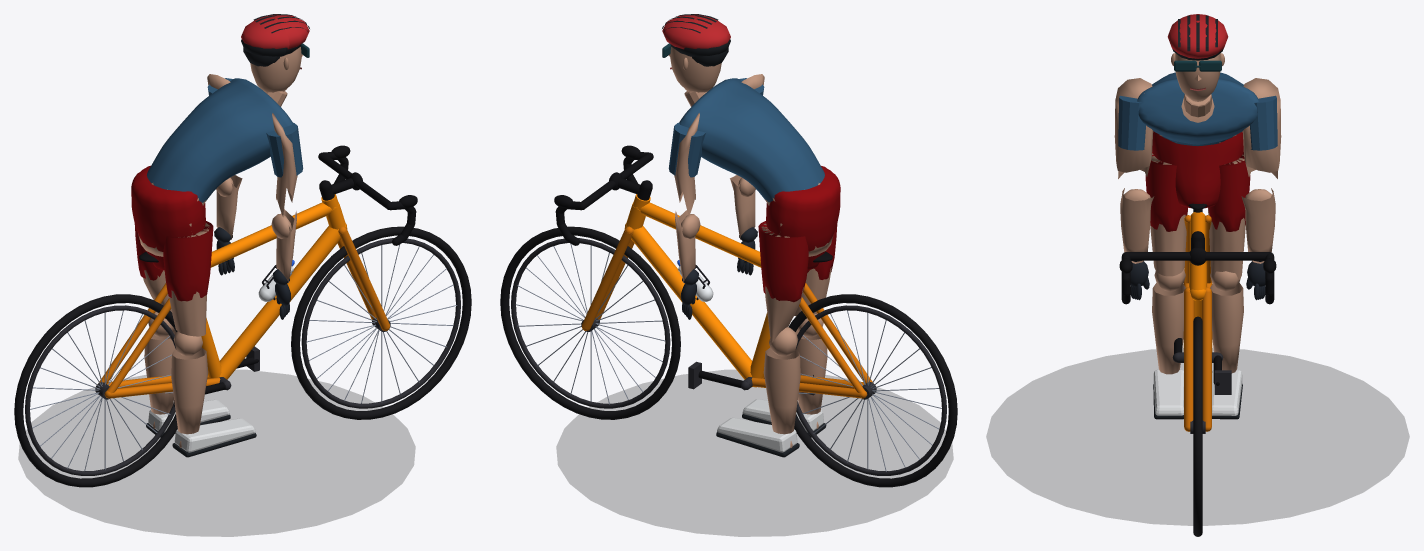
The model's file is rider-lowpoly.glb.
3 views of the same model, side by side, from view 1: azimuth 30°, elevation 25°; view 2: azimuth 150°, elevation 25°; view 3: azimuth 270°, elevation 25° (orthographic). The views are drawn at different scales.
Parts seen in each view (by area): view 1: groundShadow, RiderBike, torso, leg_l, leg_l_shin, cockpit, arm_l, ankle_l, leg_r_shin, arm_l_fore, arm_r_fore, ankle_r (+2 smaller); view 2: groundShadow, RiderBike, torso, leg_r, leg_r_shin, cockpit, arm_r, ankle_r, leg_l_shin, arm_r_fore, arm_l_fore, leg_l (+2 smaller); view 3: groundShadow, torso, RiderBike, leg_r, leg_l, arm_l, arm_r, cockpit, leg_r_shin, leg_l_shin, arm_r_fore, arm_l_fore (+2 smaller).
Part boxes in pixels (x1,y1,x2,y2): groundShadow: (18, 370, 415, 536); RiderBike: (14, 202, 471, 487); torso: (131, 14, 309, 270); leg_l: (163, 221, 213, 336); leg_l_shin: (171, 348, 208, 434); cockpit: (318, 145, 417, 245); arm_l: (266, 113, 303, 216); ankle_l: (172, 418, 256, 457); leg_r_shin: (144, 330, 176, 414); arm_l_fore: (273, 209, 296, 319); arm_r_fore: (214, 175, 242, 275); ankle_r: (146, 399, 230, 437); groundShadow: (556, 370, 953, 536); RiderBike: (500, 202, 957, 487); torso: (662, 14, 840, 270); leg_r: (758, 221, 808, 345); leg_r_shin: (763, 348, 800, 434); cockpit: (554, 145, 653, 245); arm_r: (668, 113, 705, 216); ankle_r: (716, 417, 799, 457); leg_l_shin: (795, 330, 827, 414); arm_r_fore: (675, 210, 698, 319); arm_l_fore: (730, 175, 757, 275); leg_l: (794, 224, 837, 316); groundShadow: (986, 348, 1409, 525); torso: (1137, 14, 1258, 208); RiderBike: (1183, 203, 1212, 536); leg_r: (1208, 152, 1250, 280); leg_l: (1145, 152, 1187, 276); arm_l: (1114, 78, 1153, 178); arm_r: (1242, 78, 1281, 178); cockpit: (1119, 231, 1276, 304); leg_r_shin: (1210, 283, 1243, 373); leg_l_shin: (1152, 283, 1185, 374); arm_r_fore: (1241, 188, 1275, 300); arm_l_fore: (1120, 188, 1154, 300).
Size of the model in its own units: 1.64 by 1.46 by 1.24.
14 materials, 1 textured.
